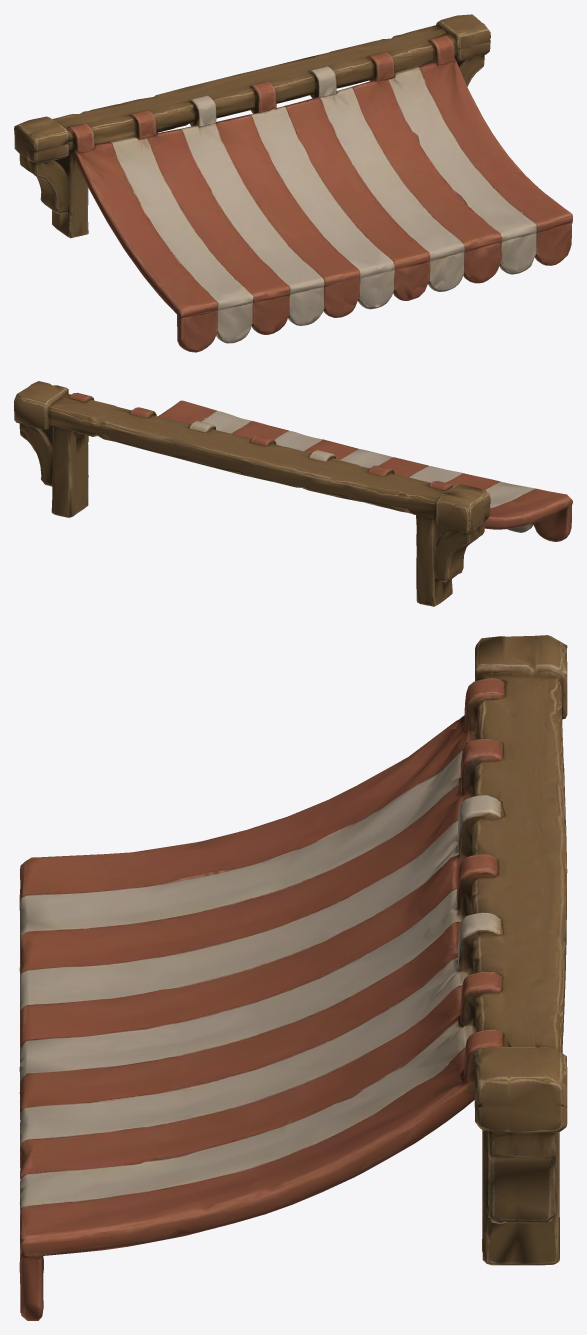
Rendered from trim_awning.glb.
3 views of the same model, one above another, from view 1: azimuth 30°, elevation 25°; view 2: azimuth 150°, elevation 25°; view 3: azimuth 270°, elevation 25° (orthographic). The views are drawn at different scales.
Parts seen in each view (by area): view 1: tripo_node_60b9095b-8bae-4e36-97bf-1dde512ef241; view 2: tripo_node_60b9095b-8bae-4e36-97bf-1dde512ef241; view 3: tripo_node_60b9095b-8bae-4e36-97bf-1dde512ef241.
Part boxes in pixels (left/top/right/bottom): tripo_node_60b9095b-8bae-4e36-97bf-1dde512ef241: left=14, top=14, right=572, bottom=352; tripo_node_60b9095b-8bae-4e36-97bf-1dde512ef241: left=14, top=381, right=572, bottom=606; tripo_node_60b9095b-8bae-4e36-97bf-1dde512ef241: left=19, top=635, right=567, bottom=1320.
Bounding box in the file's own units: 0.9794 × 0.2946 × 0.5079.
1 material, 1 textured.
